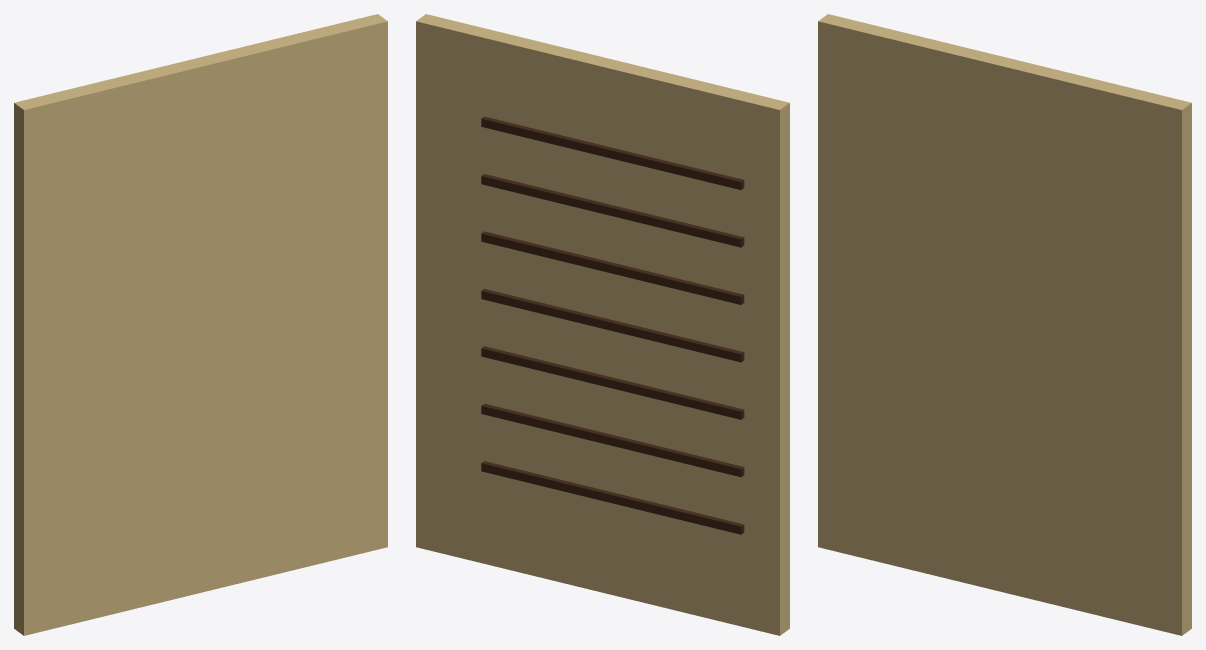
Rendered from Document.obj.
3 renders of one model, left to right at view 1: azimuth 30°, elevation 25°; view 2: azimuth 150°, elevation 25°; view 3: azimuth 330°, elevation 25°, orthographic.
Visible parts, largest first — view 1: Document; view 2: Document; view 3: Document.
Boxes of the visible parts, x1,y1,x2,y2 form: Document: (14, 14, 387, 635); Document: (416, 14, 789, 635); Document: (818, 14, 1191, 635).
Bounding box in the file's own units: 0.42 × 0.58 × 0.028.
